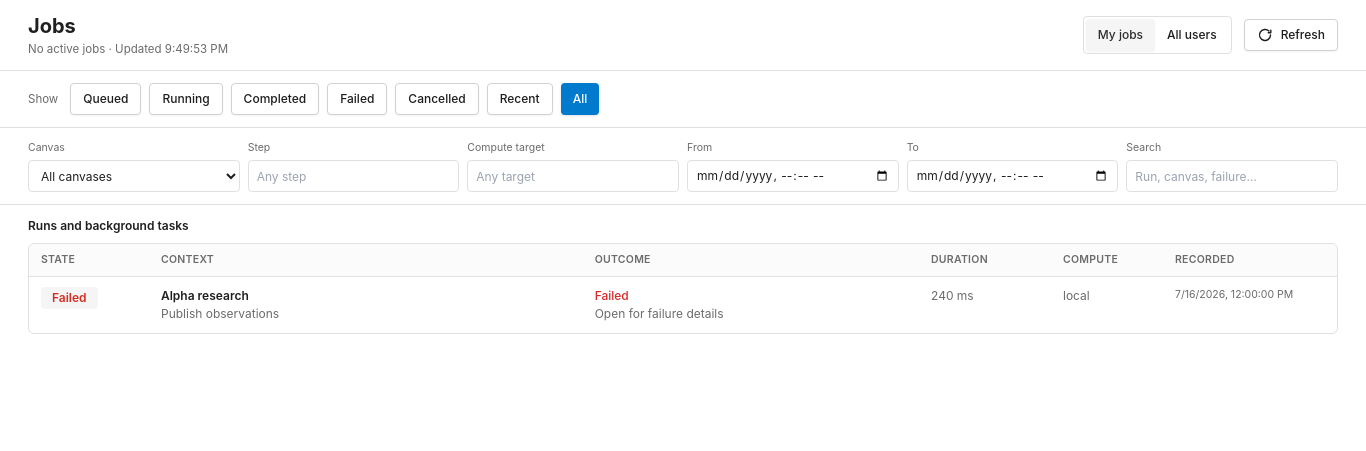
JobsView › turns a known engine exception into an actionable failure message
Step 1. Click the button with test id "job-row-run-1" → (683, 305), box top-left (29, 277), bottom-right (1337, 333)
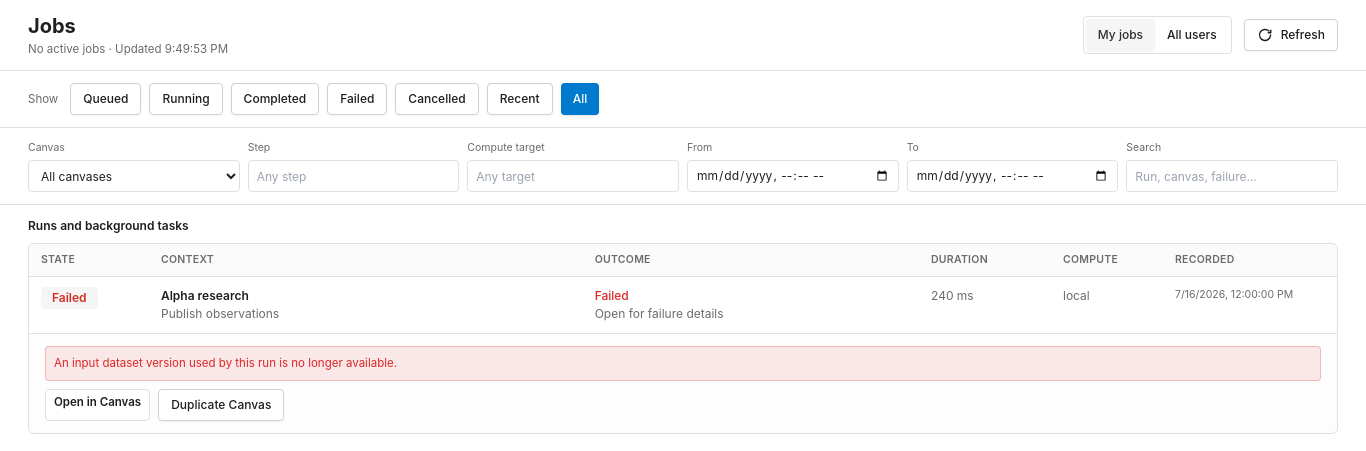
Expected: the message reads "An input dataset version used by this run is no longer available.", top-left (54, 356), bottom-right (397, 370)
